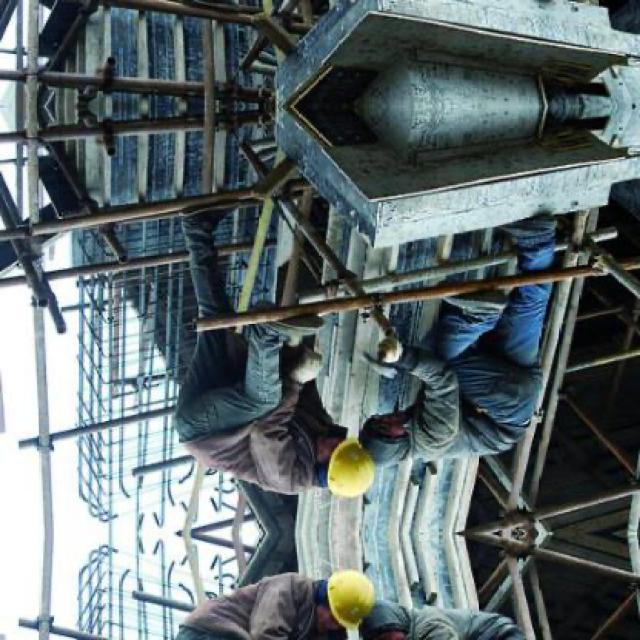con casco: (287, 419, 409, 510), (294, 564, 384, 637), (377, 416, 443, 478)
